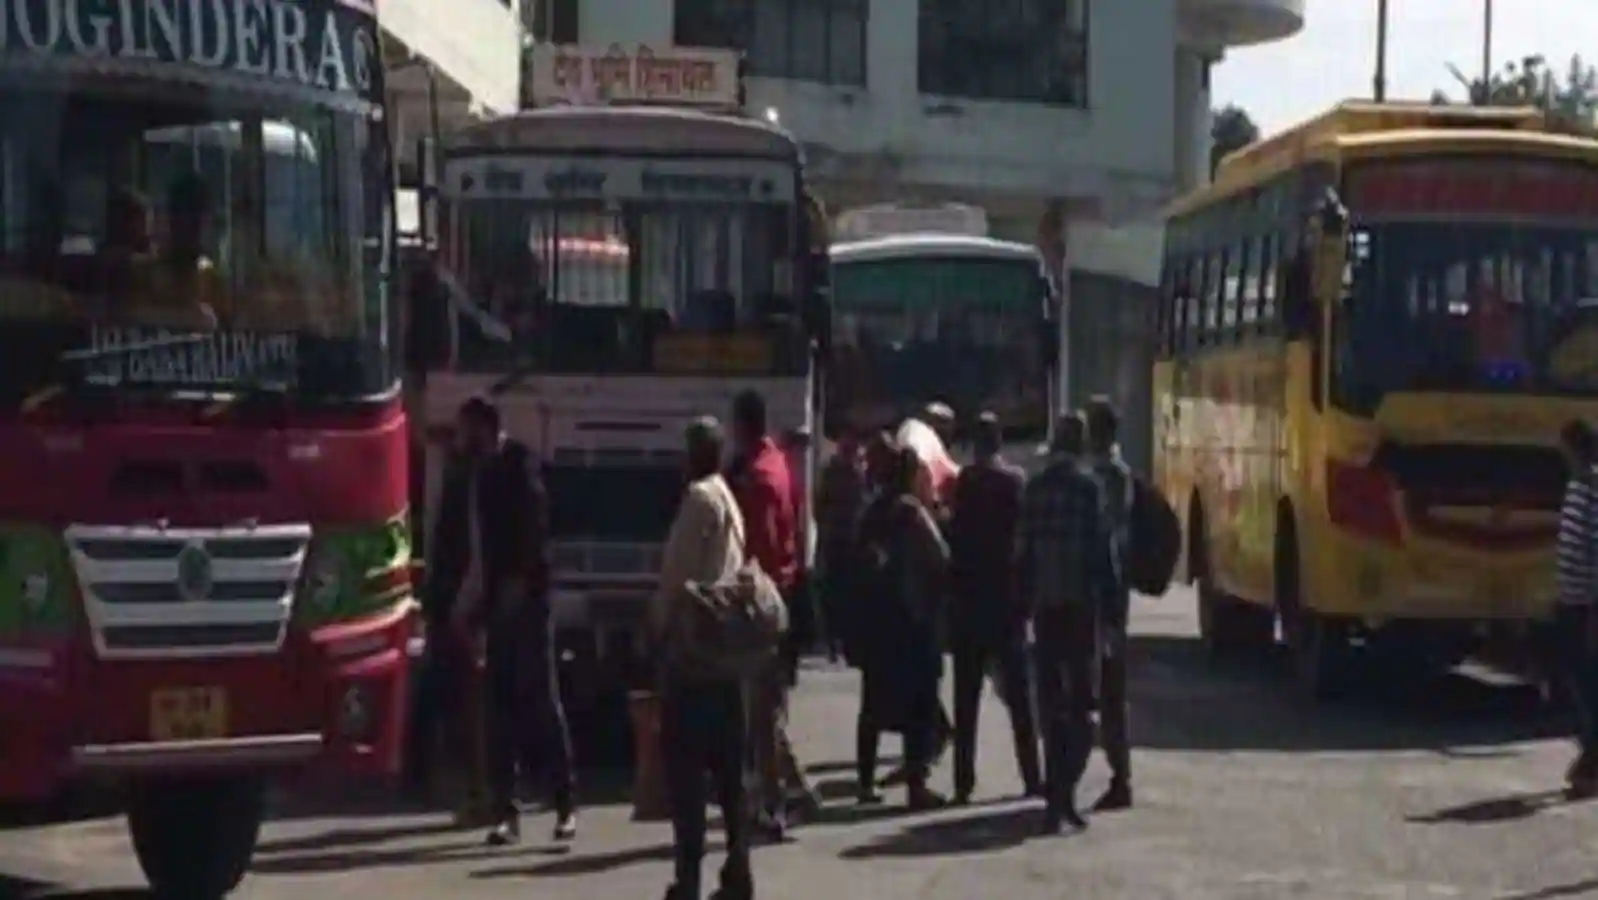bus: (1, 1, 390, 900), (1143, 95, 1597, 701), (426, 36, 820, 625), (833, 195, 1048, 494)
